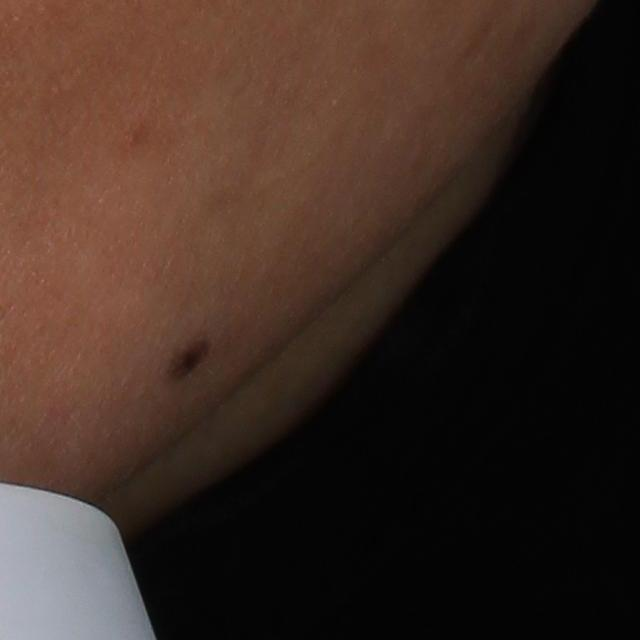nevus: (165, 338, 213, 382)
